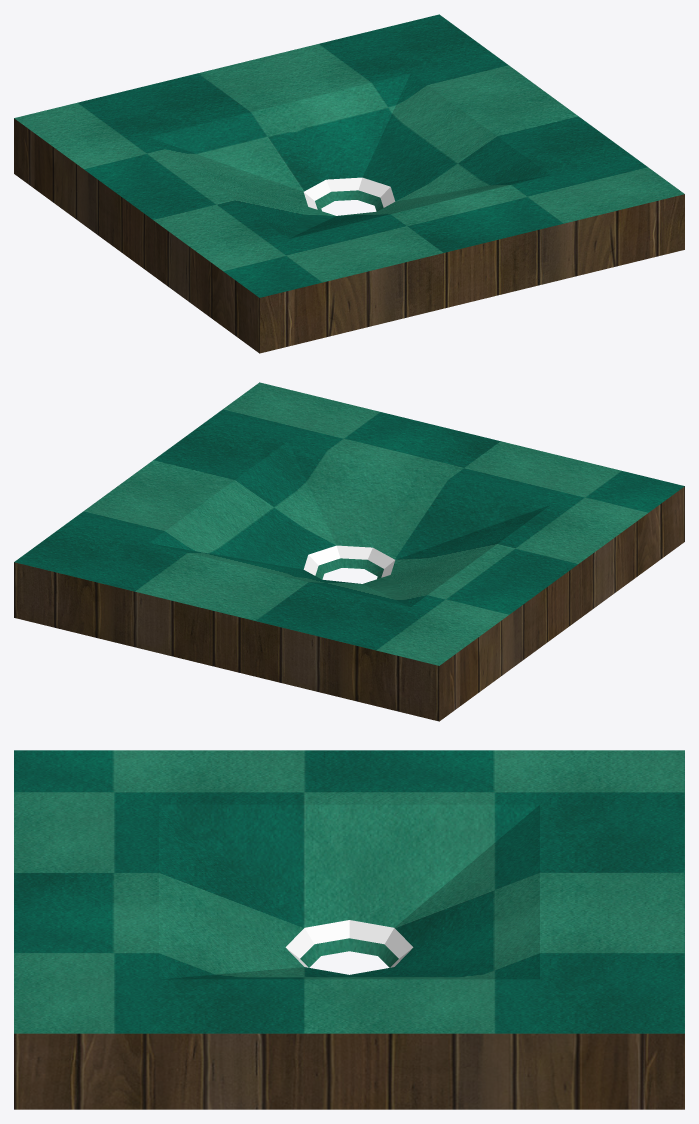
File: End4_depth.gltf
The picture shows the model from 3 angles, top to bottom: view 1: azimuth 30°, elevation 25°; view 2: azimuth 150°, elevation 25°; view 3: azimuth 270°, elevation 25°; orthographic projection. The views are drawn at different scales.
Visible parts, largest first — view 1: End4_depth_glb; view 2: End4_depth_glb; view 3: End4_depth_glb.
Part boxes in pixels (x1,y1,x2,y2): End4_depth_glb: (14,14,684,353); End4_depth_glb: (14,382,684,721); End4_depth_glb: (14,750,684,1109).
Size of what is drawn, in the model's own units: 4 by 0.5 by 4.
3 materials, 2 textured.
